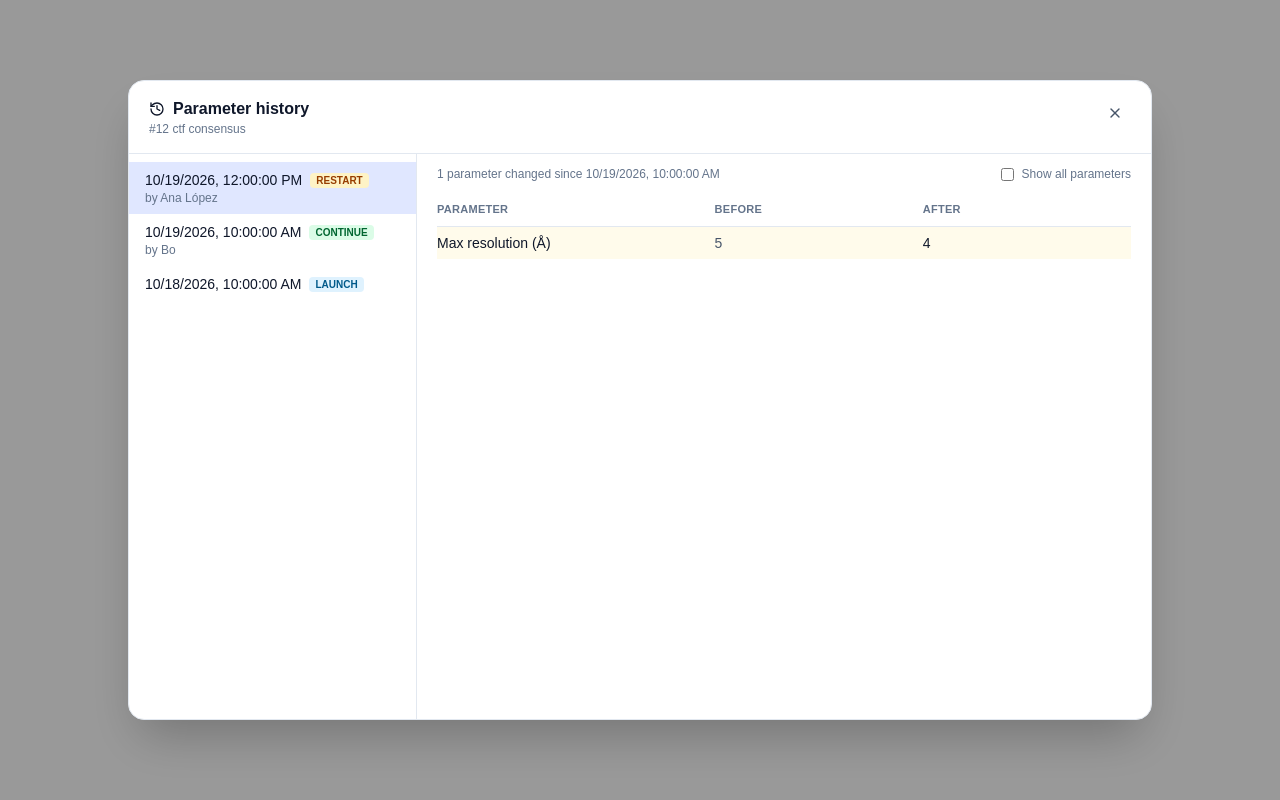
Test: ParameterHistoryDialog › shows what changed in each launch since the one before, by label
Expected: the text "by Ana López" is shown, [145, 191, 218, 205]
Expected: the text "Max resolution (Å)" is shown, [437, 235, 551, 251]
Step 1. Click the checkbox labelled "Show all parameters" → click(1007, 174), box [1001, 168, 1014, 180]
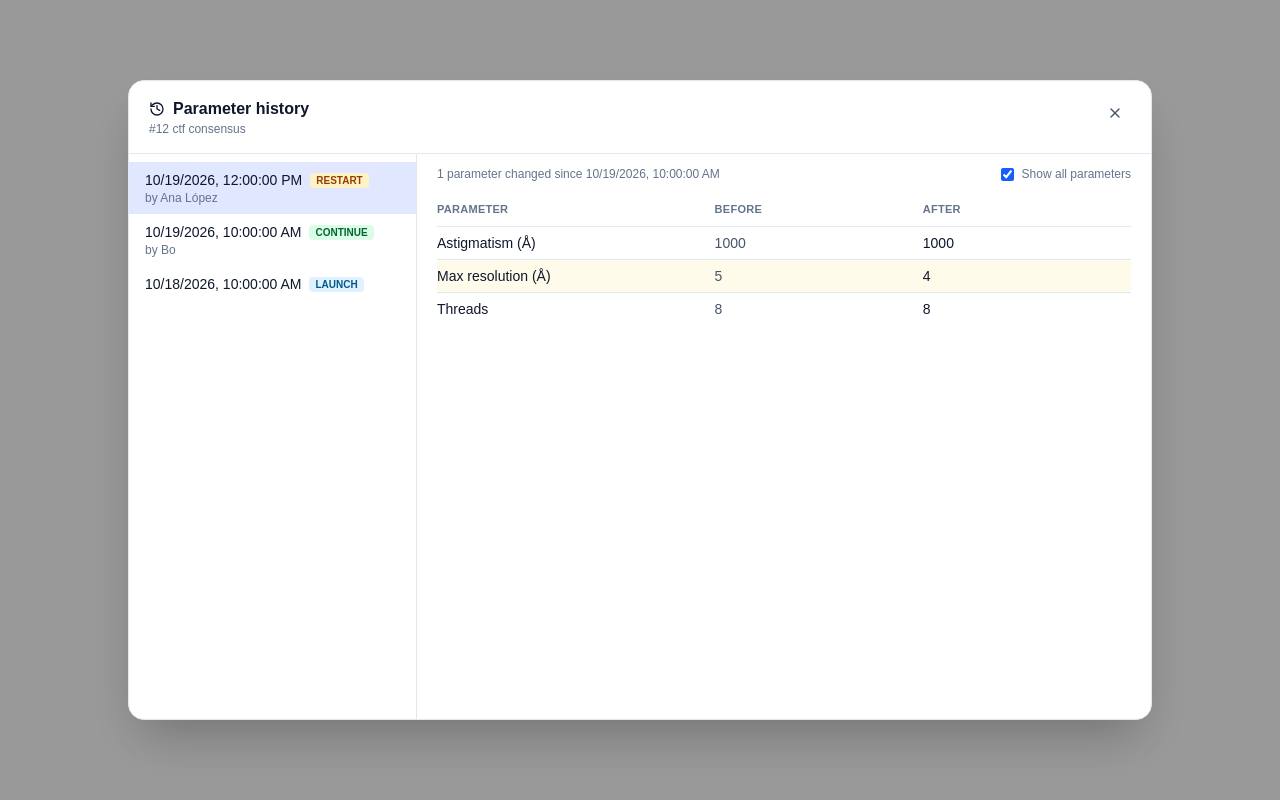
Expected: the text "Astigmatism (Å)" is shown, [437, 235, 536, 251]
